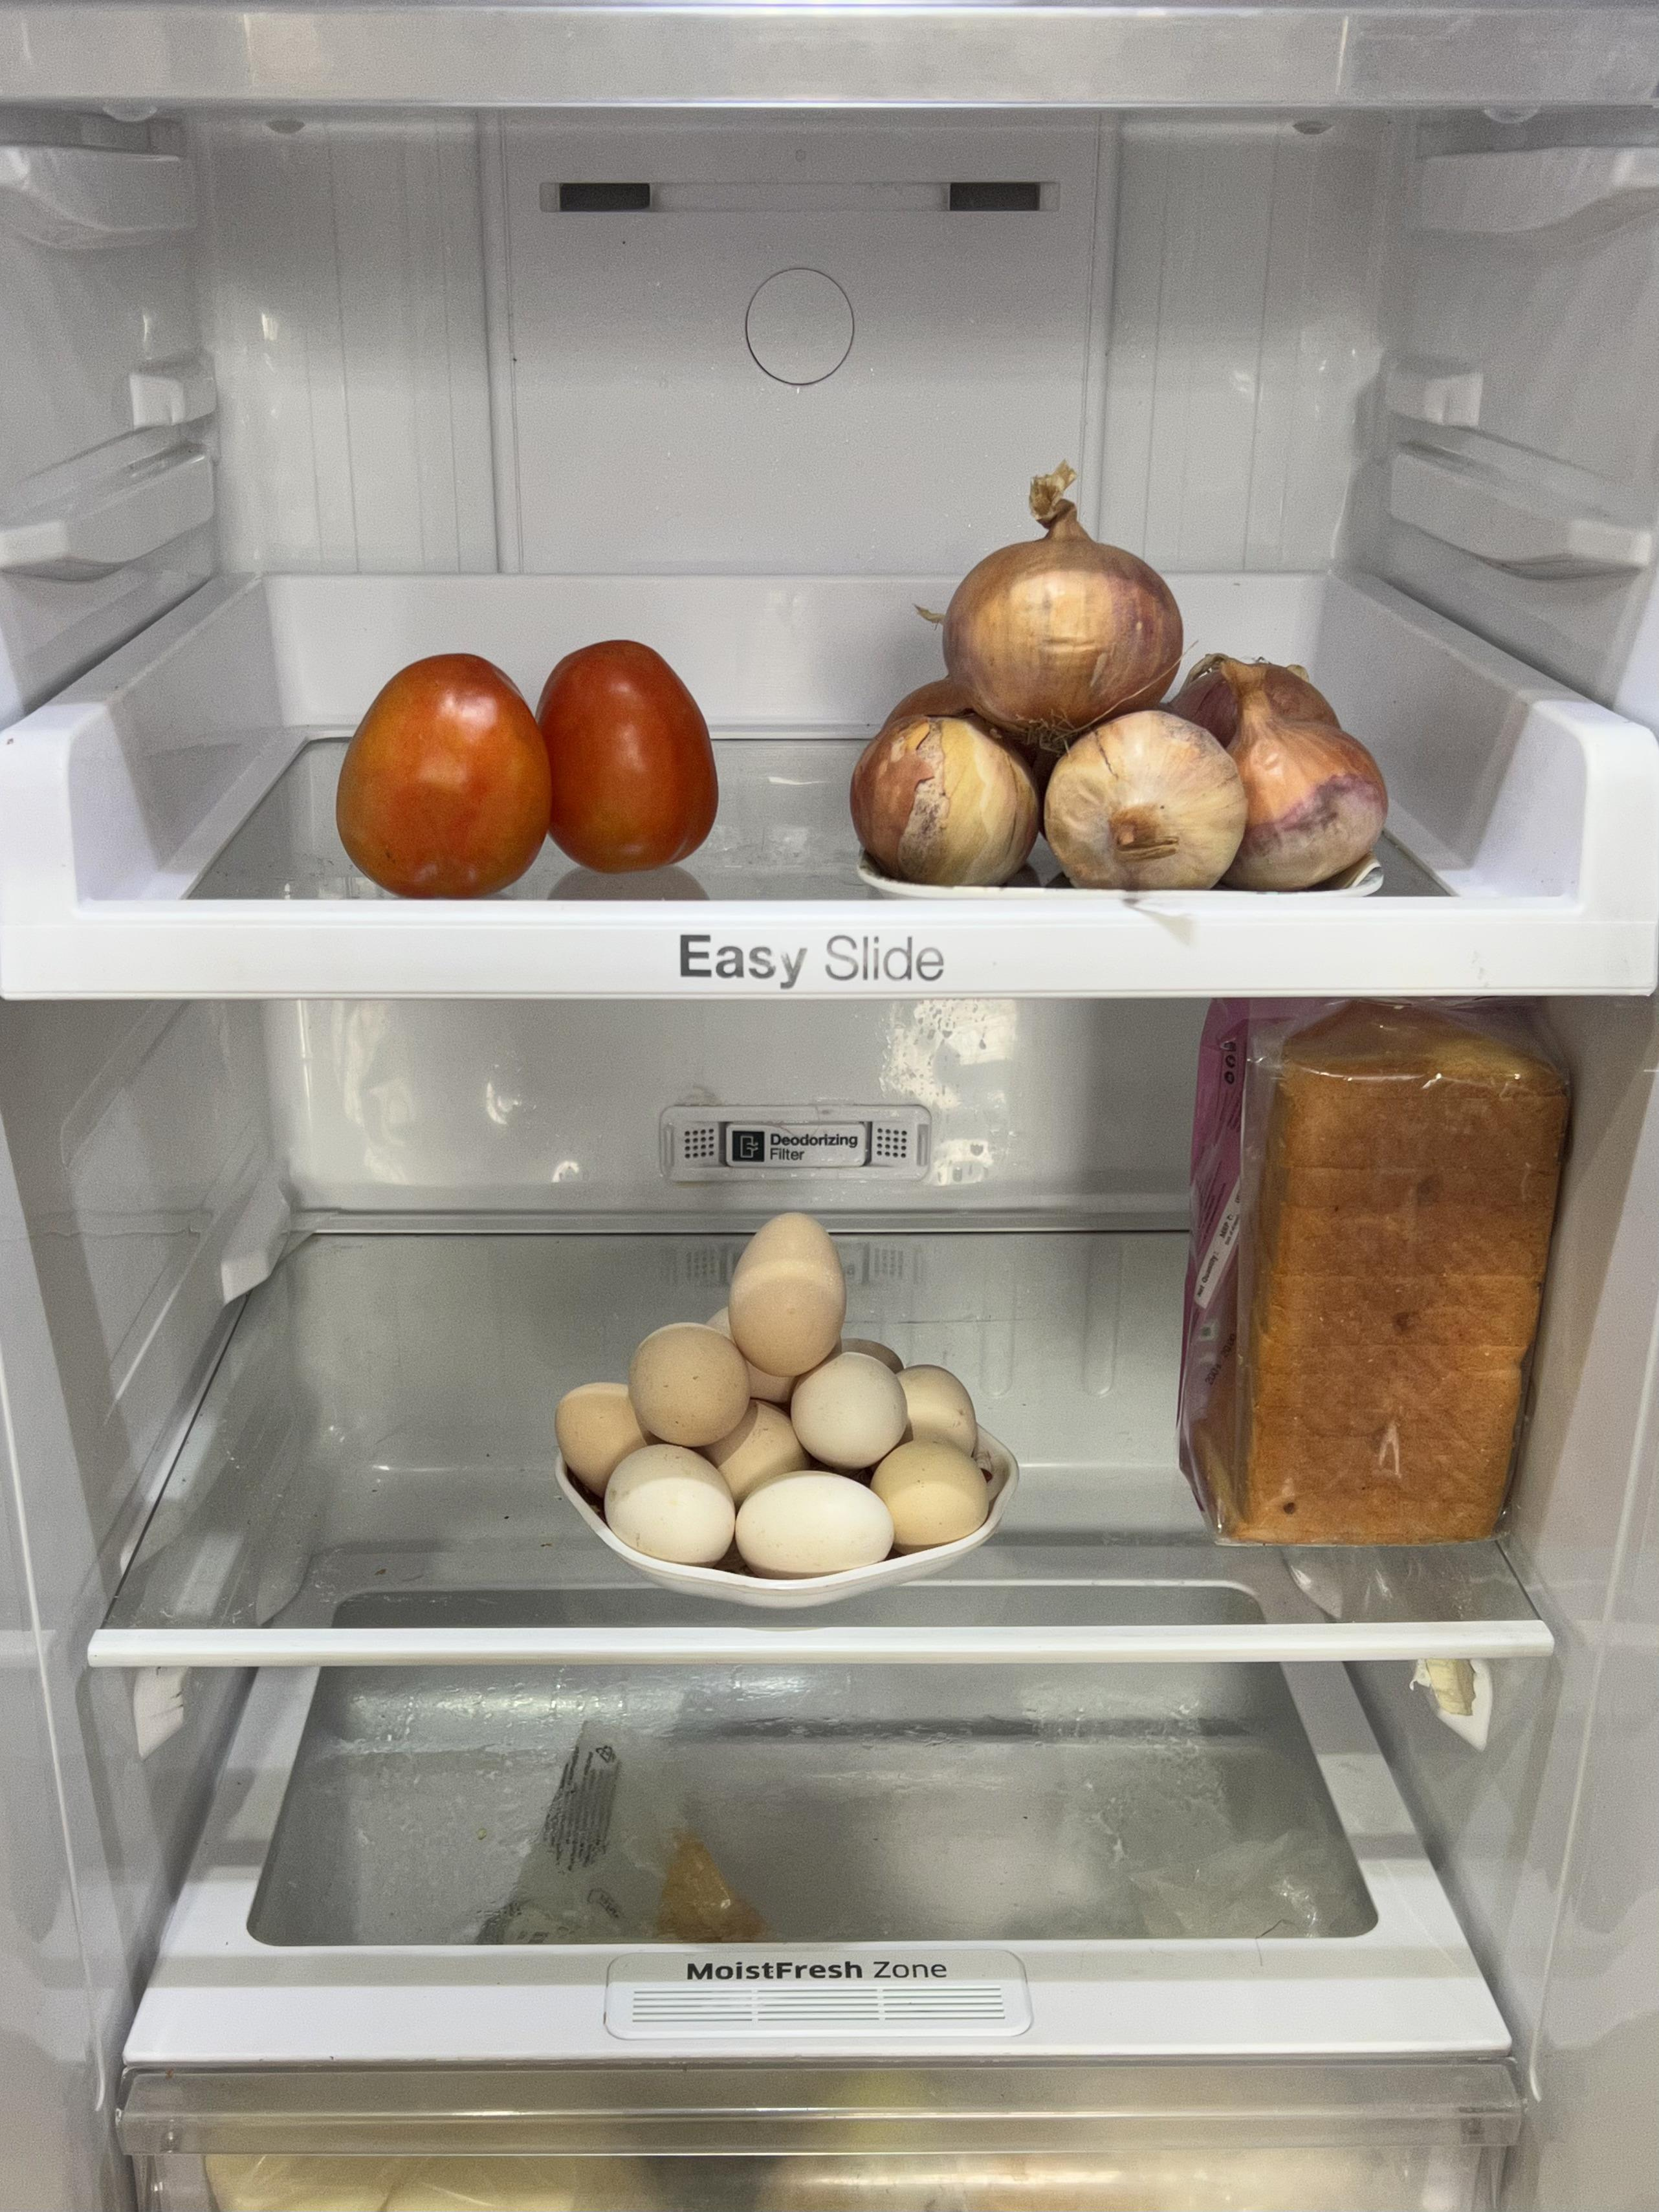bread: (1187, 1003, 1523, 1555)
egg: (570, 1212, 983, 1583)
onion: (859, 519, 1399, 881)
tomato: (333, 632, 721, 904)
